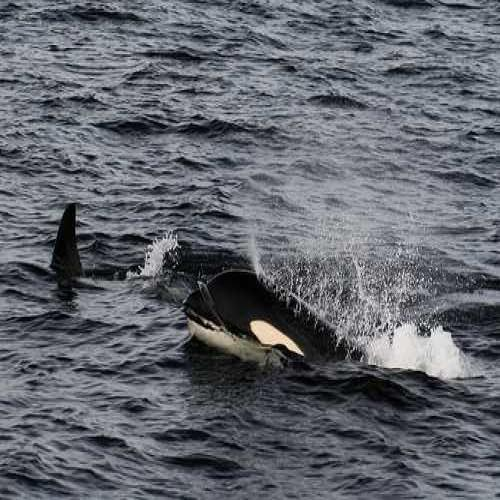killer_whale-endangered: (158, 230, 446, 377), (30, 202, 97, 300)
